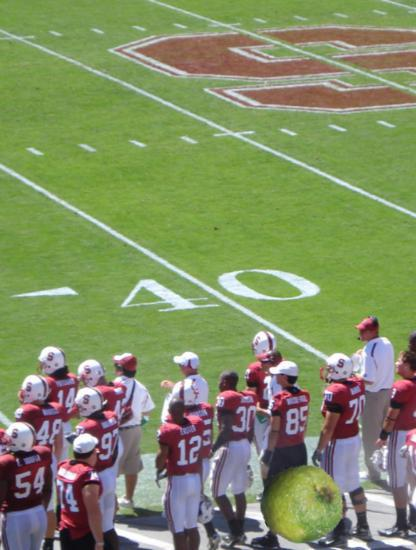Limes: (260, 462, 344, 546)
